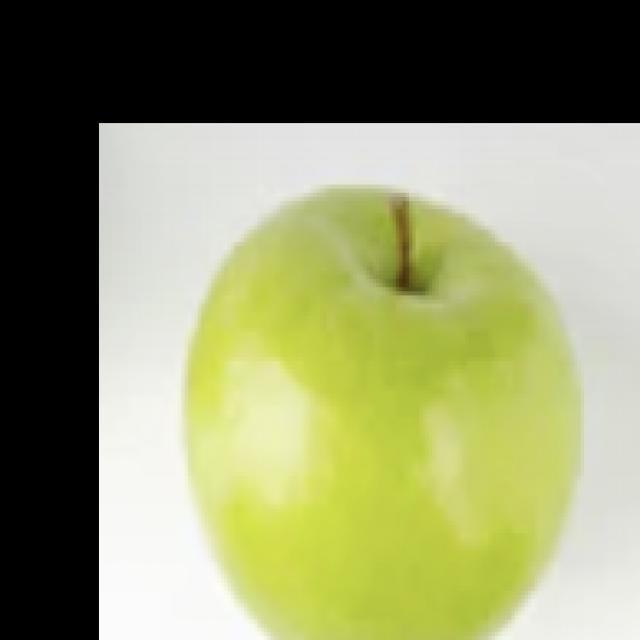Fresh Apple: (182, 182, 588, 640)
